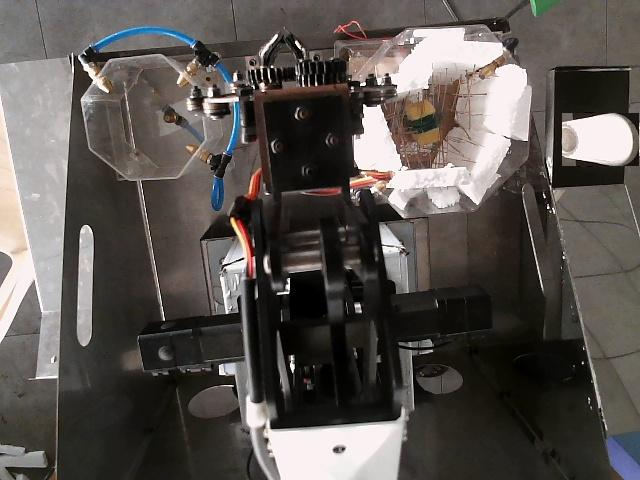cup: (562, 113, 639, 166)
